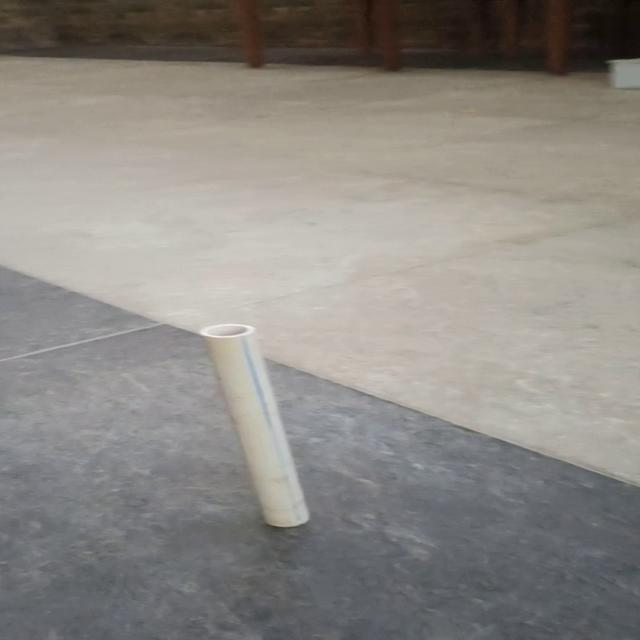Cube: (197, 322, 311, 528)
